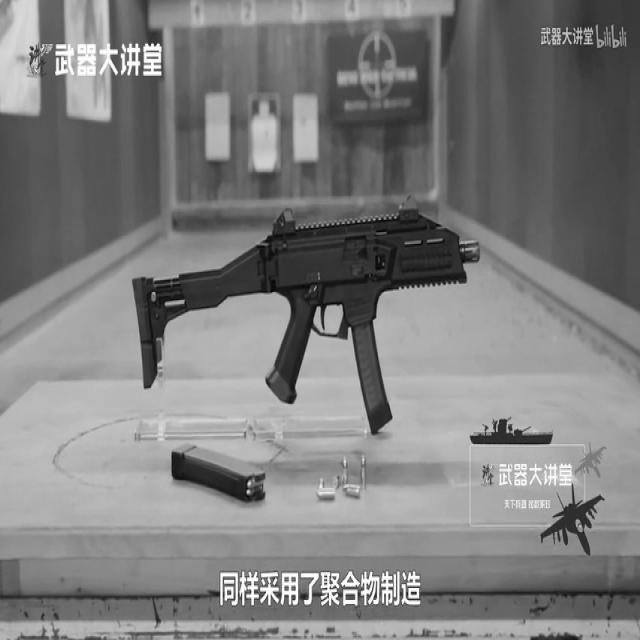Rifle: (65, 140, 514, 528)
